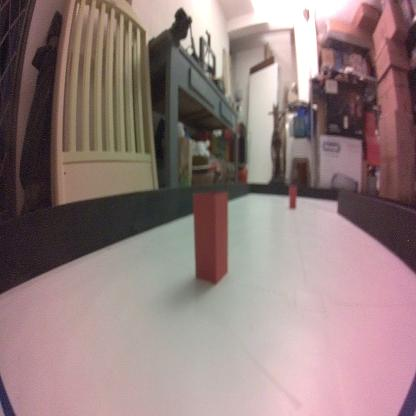red: (193, 191, 228, 283), (289, 186, 296, 208)
